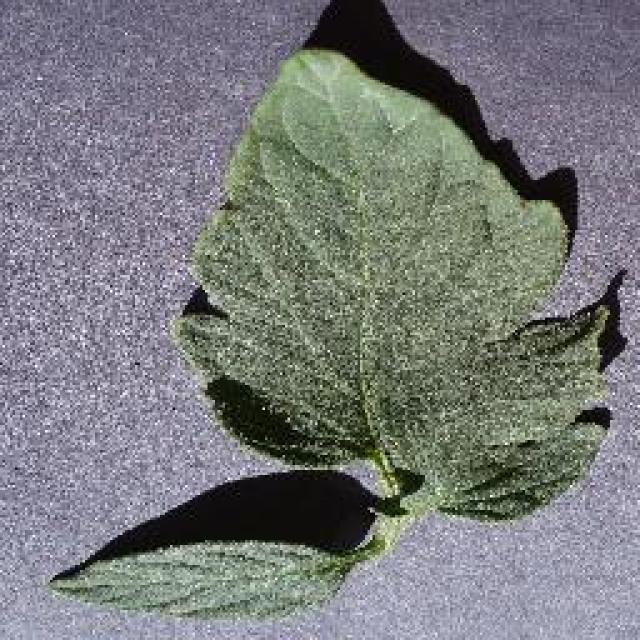Tomato healthy leaf: (182, 44, 616, 526), (45, 535, 377, 627)
